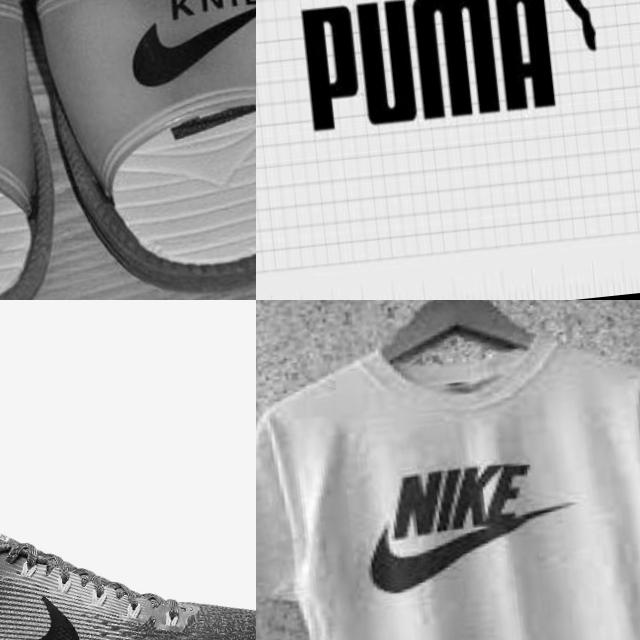NIKE_fake: (84, 0, 256, 101)
NIKE_original: (322, 430, 614, 616), (0, 561, 127, 640)
PUMA_original: (274, 0, 629, 152)
